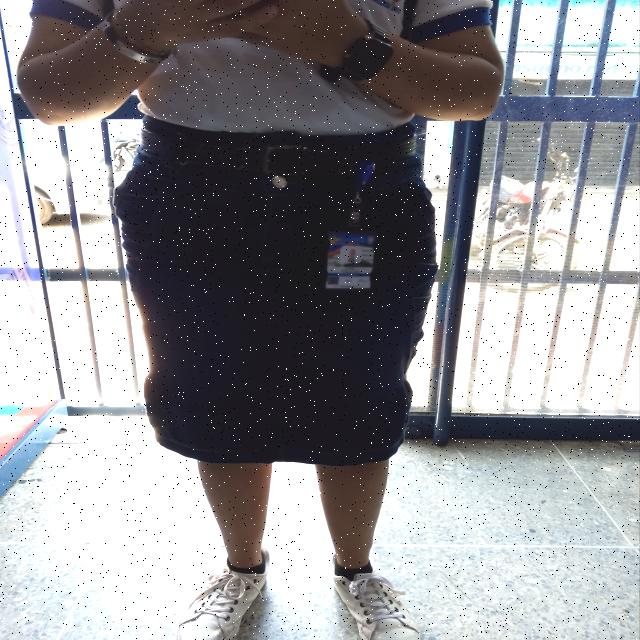carnet: (324, 232, 376, 290)
